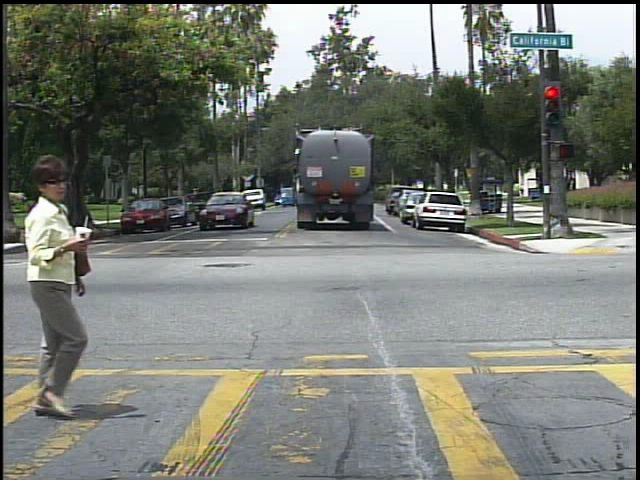person: (18, 150, 93, 423), (564, 172, 582, 204), (517, 180, 530, 200)
